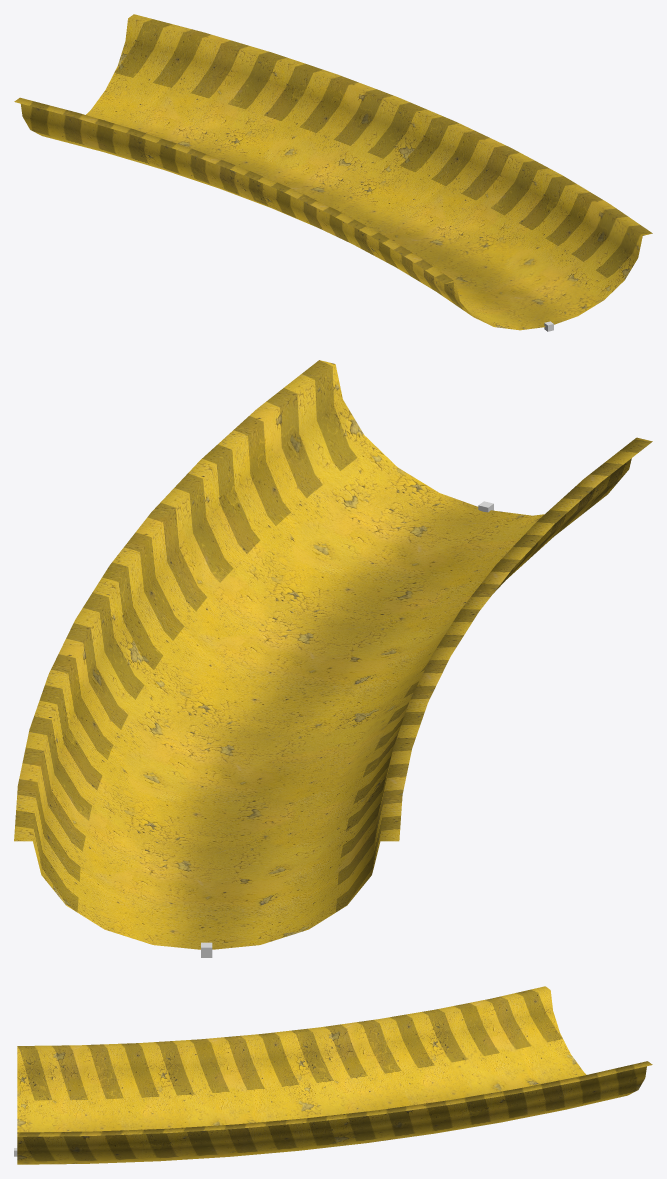
Rendered from roadBend30.L.fbx.
3 renders of one model, top to bottom at view 1: azimuth 30°, elevation 25°; view 2: azimuth 150°, elevation 25°; view 3: azimuth 270°, elevation 25°, orthographic. The views are drawn at different scales.
Visible parts, largest first — view 1: MESH roadBend30.L; view 2: MESH roadBend30.L; view 3: MESH roadBend30.L.
Part boxes in pixels (x1,y1,x2,y2): MESH roadBend30.L: (14, 14, 652, 330); MESH roadBend30.L: (14, 360, 652, 949); MESH roadBend30.L: (17, 986, 652, 1164).
Size of what is drawn, in the model's own units: 2809 by 553 by 5032.
